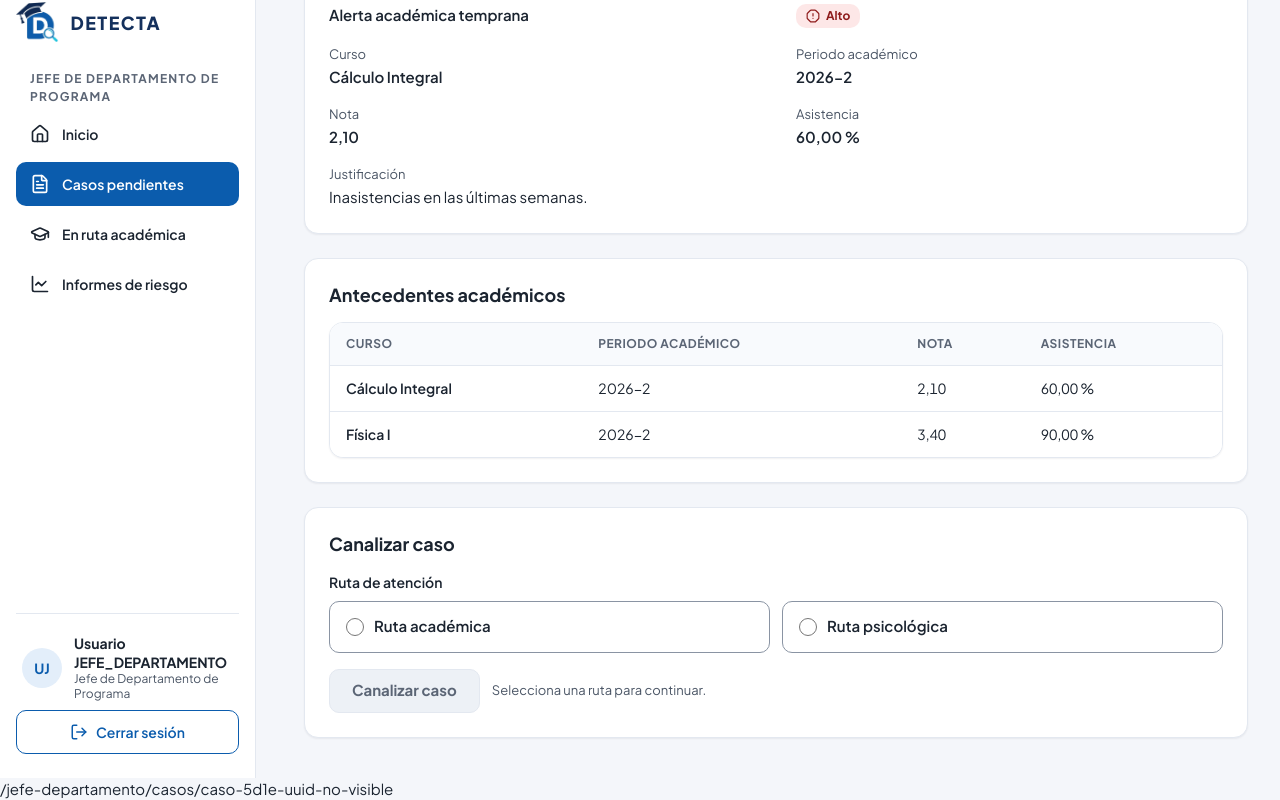
Test: Plan de nivelación (CUD05) › sin tutor: «Faltan los datos del estudiante tutor» y no envía
The width and height of the screenshot is (1280, 800).
(page scrolled)
What coordinates should you click on to do the following:
click the radio button labelled "Ruta académica"
I would click on:
 (355, 627)
Its box is left=346, top=618, right=364, bottom=636.
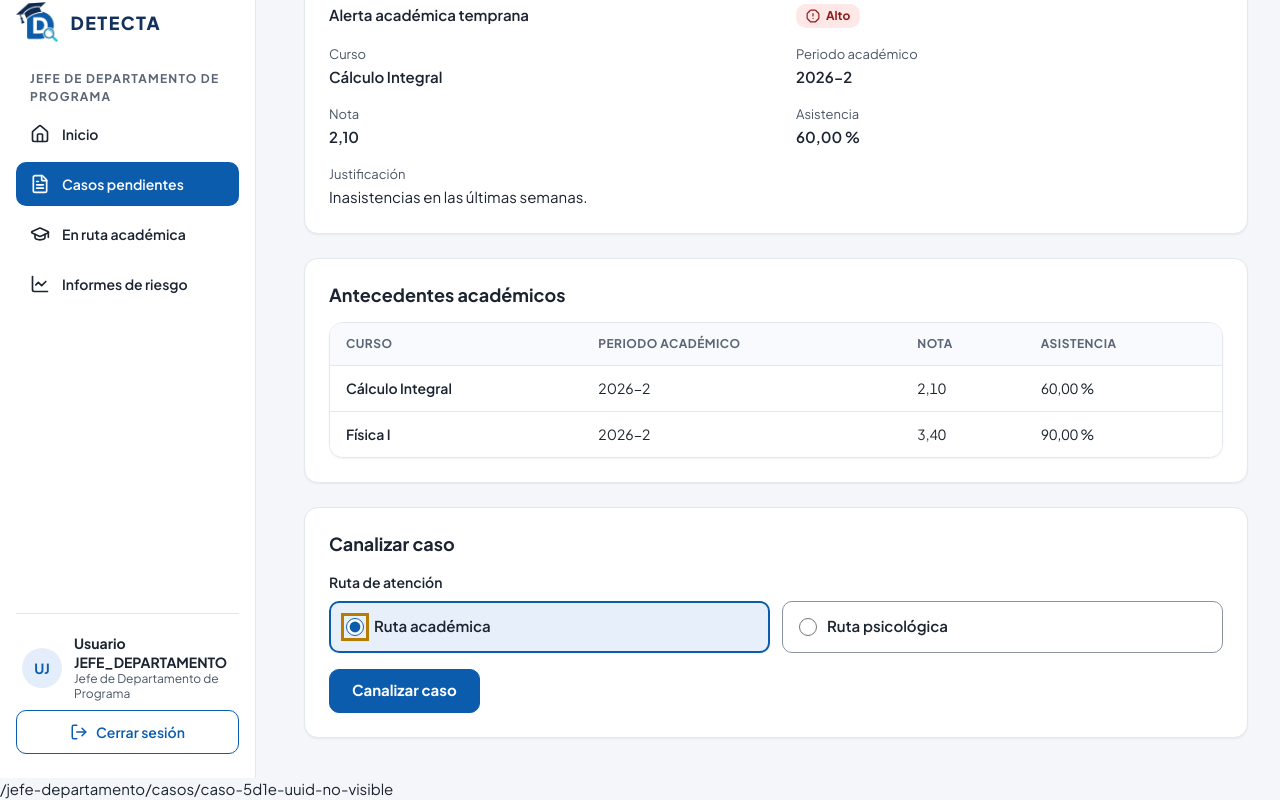
What coordinates should you click on to do the following:
click the button "Canalizar caso"
I would click on:
 (404, 691)
Its box is left=329, top=669, right=480, bottom=713.
(page scrolled)
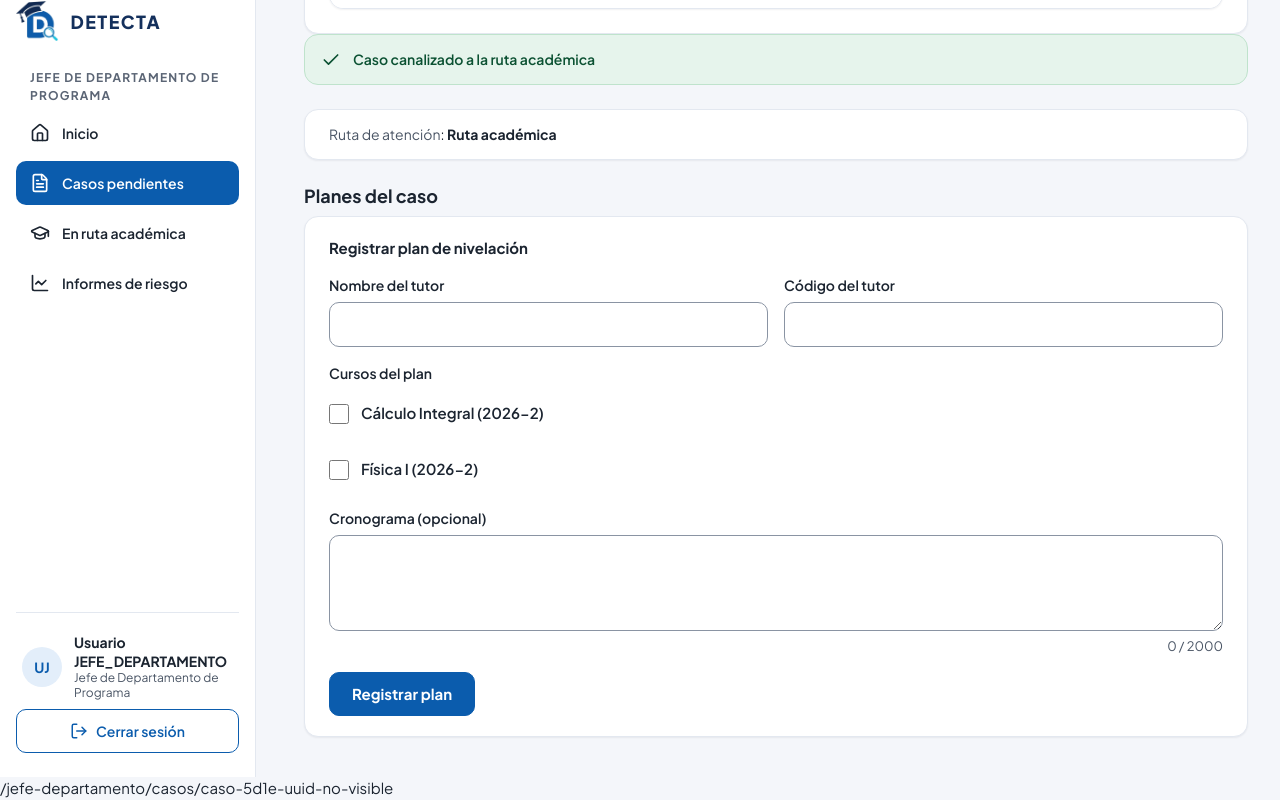
Expected: the heading "Planes del caso" is shown, left=304, top=184, right=438, bottom=207
What coordinates should you click on to do the following:
click the checkbox labelled "Cálculo Integral (2026-2)"
I would click on:
 (339, 414)
Its box is left=329, top=404, right=349, bottom=424.
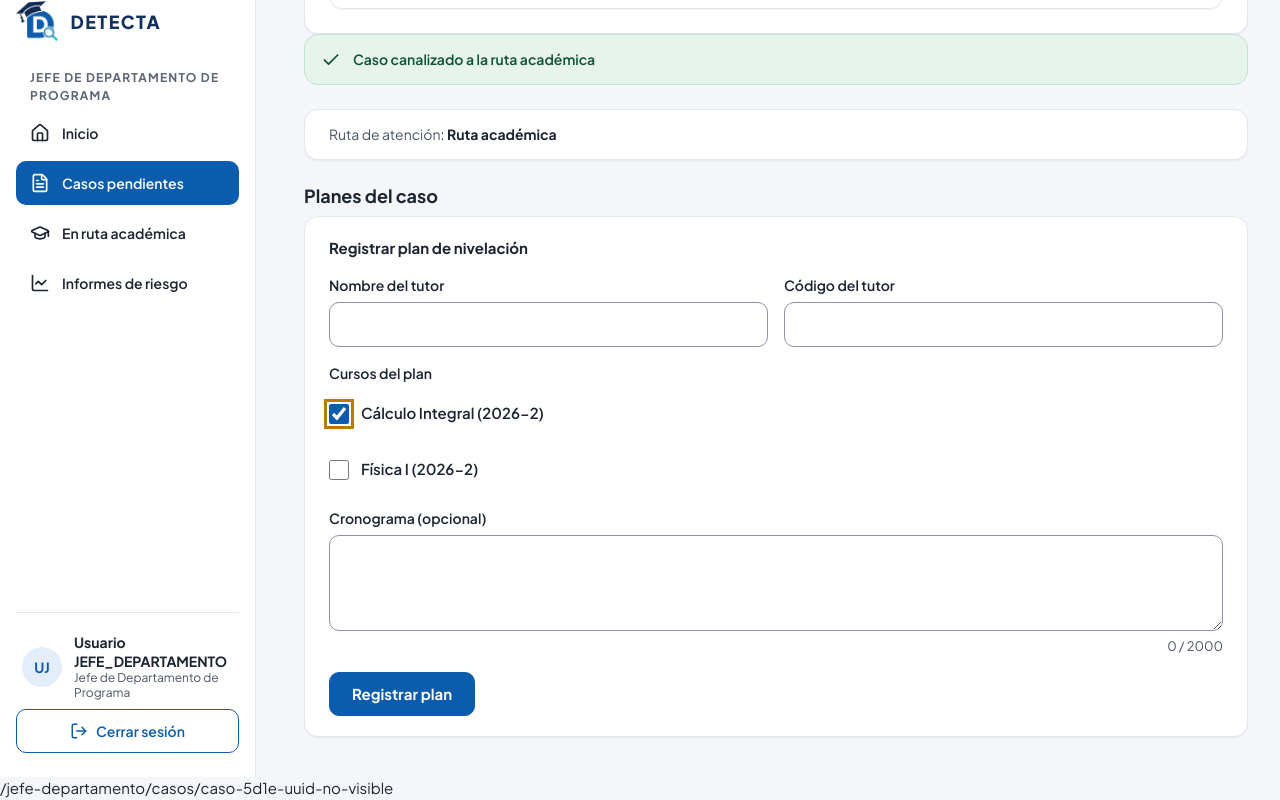
What coordinates should you click on to do the following:
click the button "Registrar plan"
I would click on:
 (402, 694)
Its box is left=329, top=672, right=475, bottom=716.
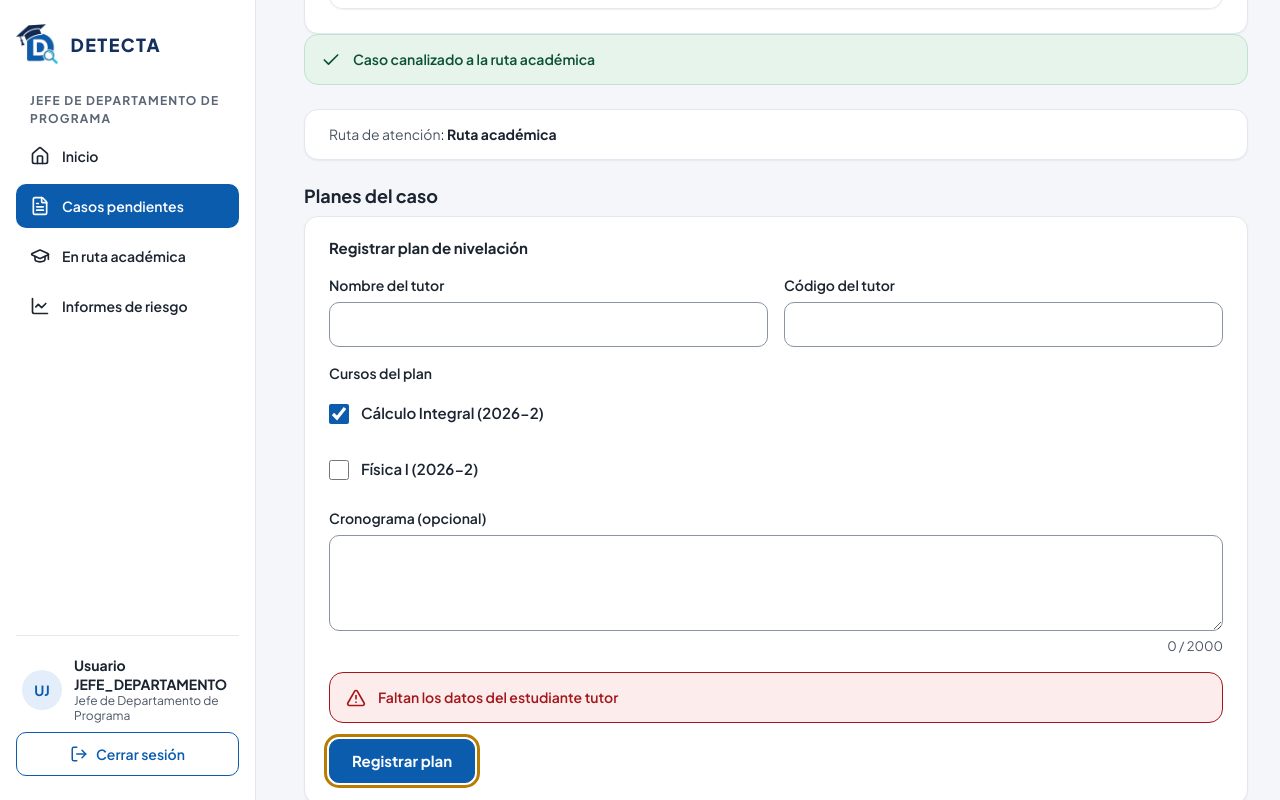
Expected: the text "Faltan los datos del estudiante tutor" is shown, left=378, top=687, right=618, bottom=708
